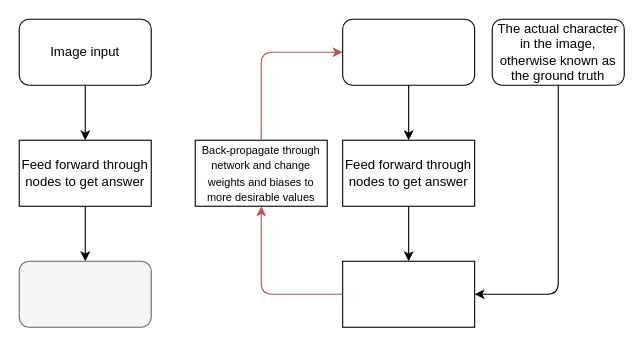
The diagram is 644 pixels wide and 347 high, and some of its shapes have lost their labels. Here are the shapes that lost their labels. From the top down, the centre of each, then its label:
the point at 408,51: New Image
the point at 84,293: Output character in image
the point at 408,293: Check answer against ground truth to get value of change
